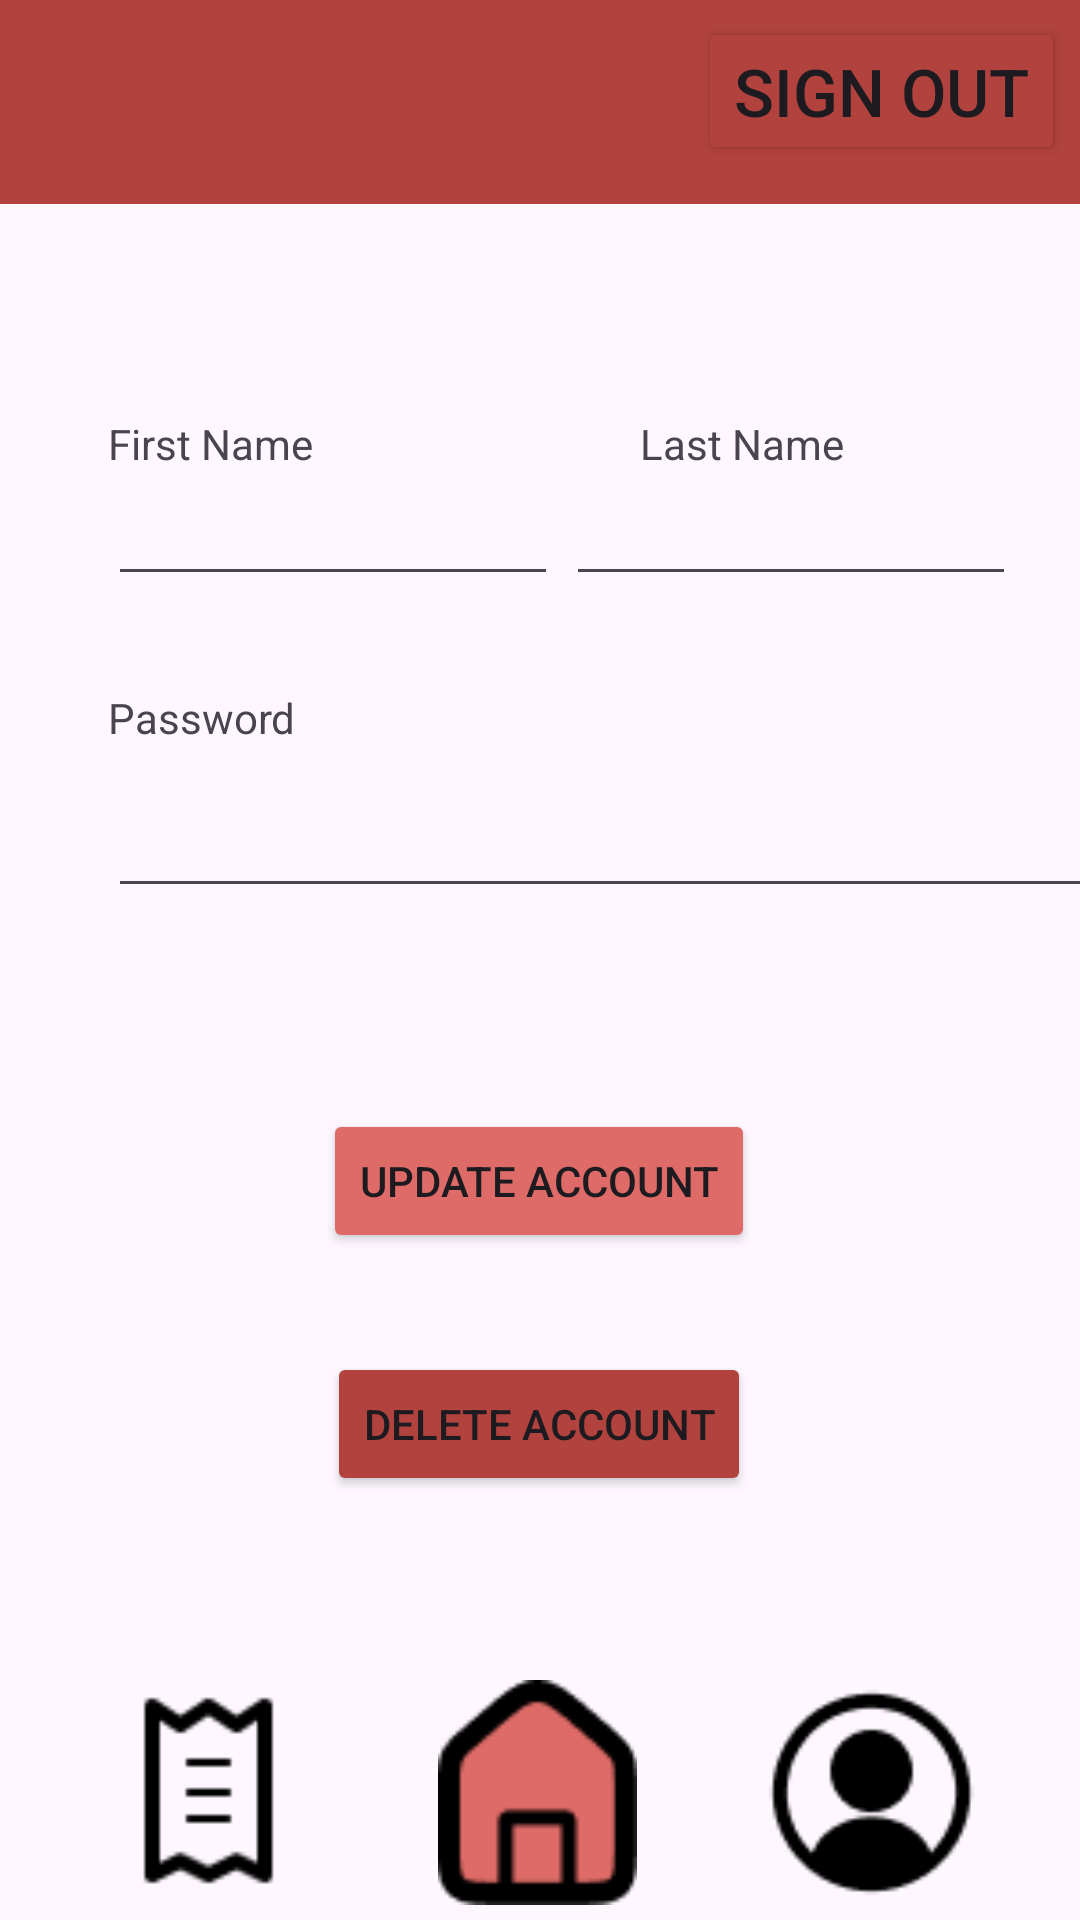

Where to tap for icons on this 1080*1920 app screen, as (x,y):
home: (537,1792)
ticket: (208,1790)
user cicrle duotone line: (871,1792)
